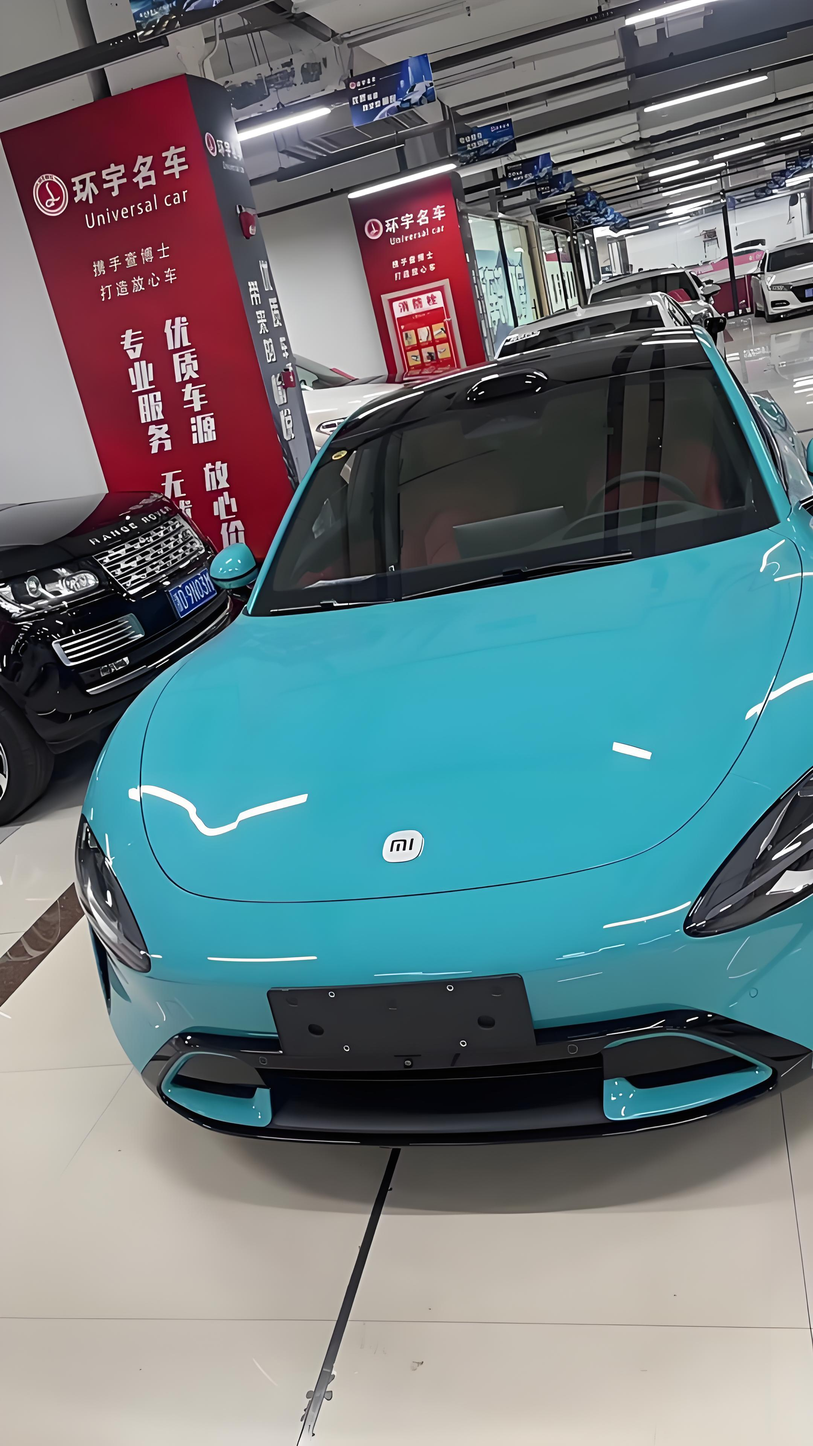XIAOMI: (382, 830, 422, 862)
